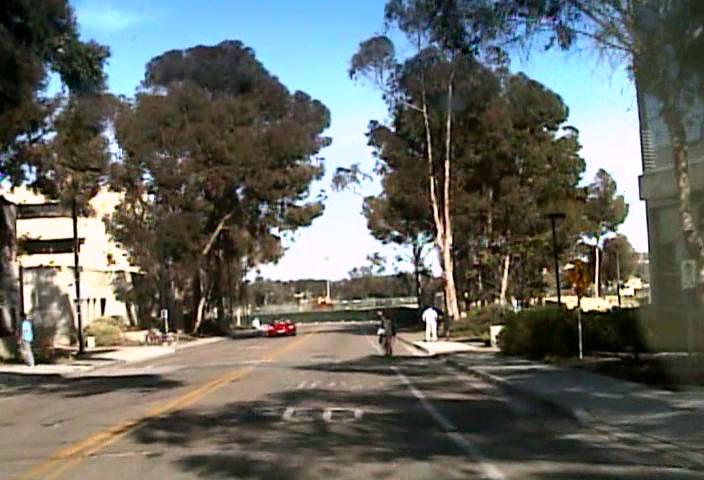pedestrianCrossing: (565, 258, 591, 294)
